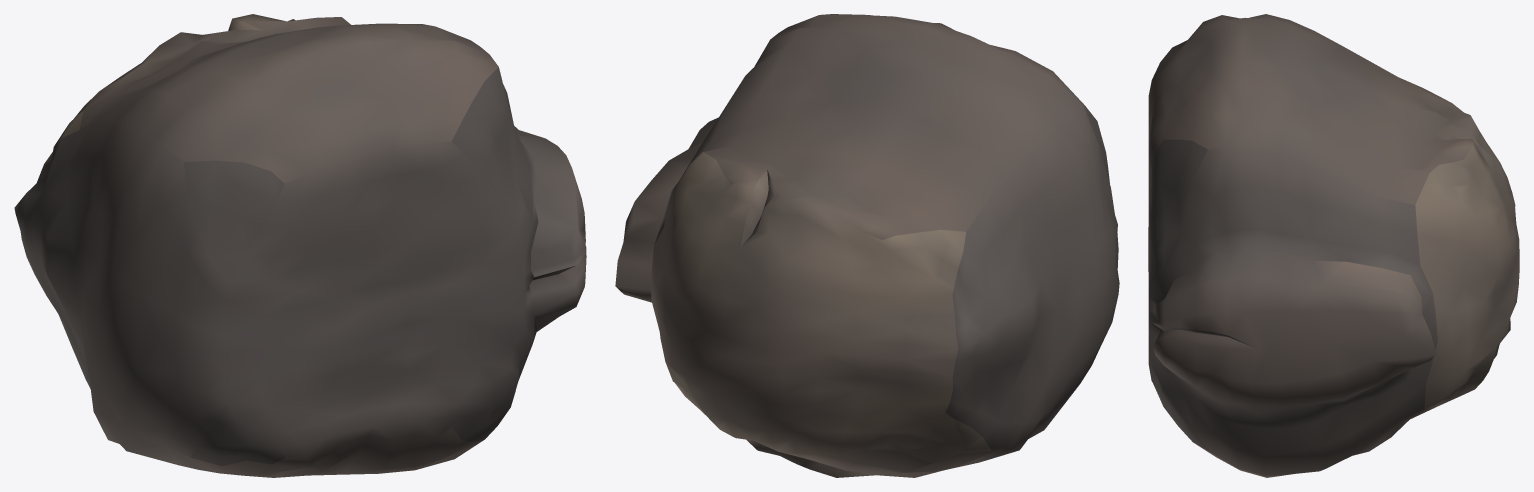
File: RockHuge.009.glb
3 renders of one model, left to right at view 1: azimuth 30°, elevation 25°; view 2: azimuth 150°, elevation 25°; view 3: azimuth 270°, elevation 25°, orthographic. The views are drawn at different scales.
Parts seen in each view (by area): view 1: RockHuge.009; view 2: RockHuge.009; view 3: RockHuge.009.
Part boxes in pixels (x1,y1,x2,y2): RockHuge.009: (14,14,586,477); RockHuge.009: (615,14,1119,477); RockHuge.009: (1148,14,1519,477).
Size of the model in its own units: 2686 by 2553 by 2232.
